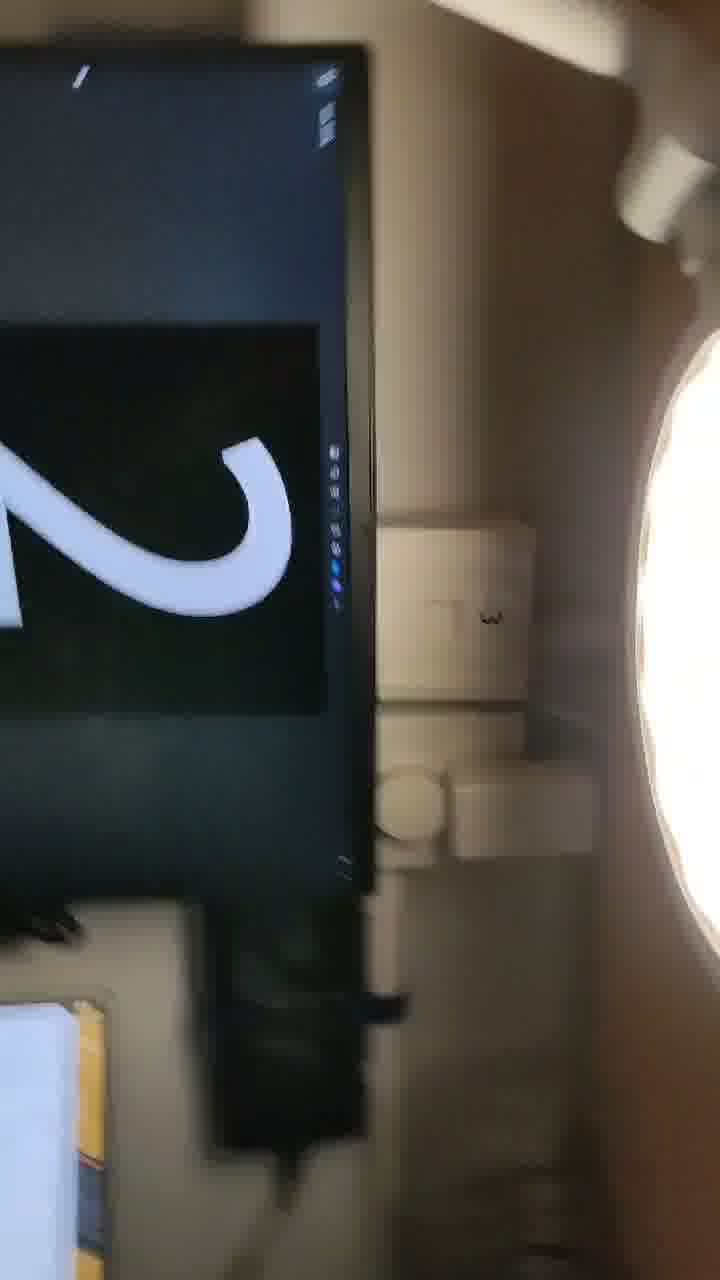two: (8, 347, 362, 709)
